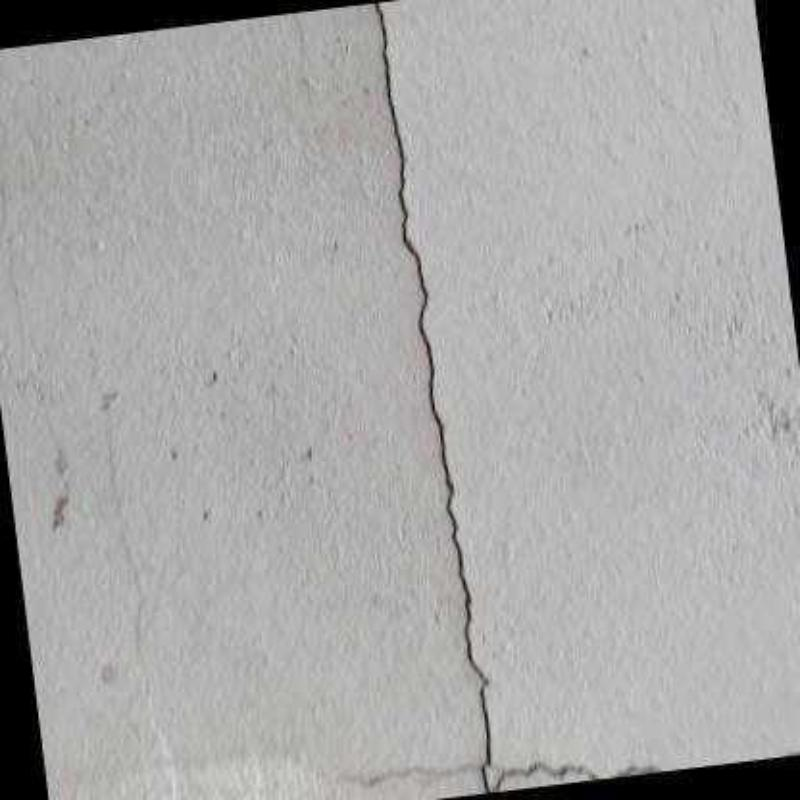pothole: (373, 0, 663, 793)
